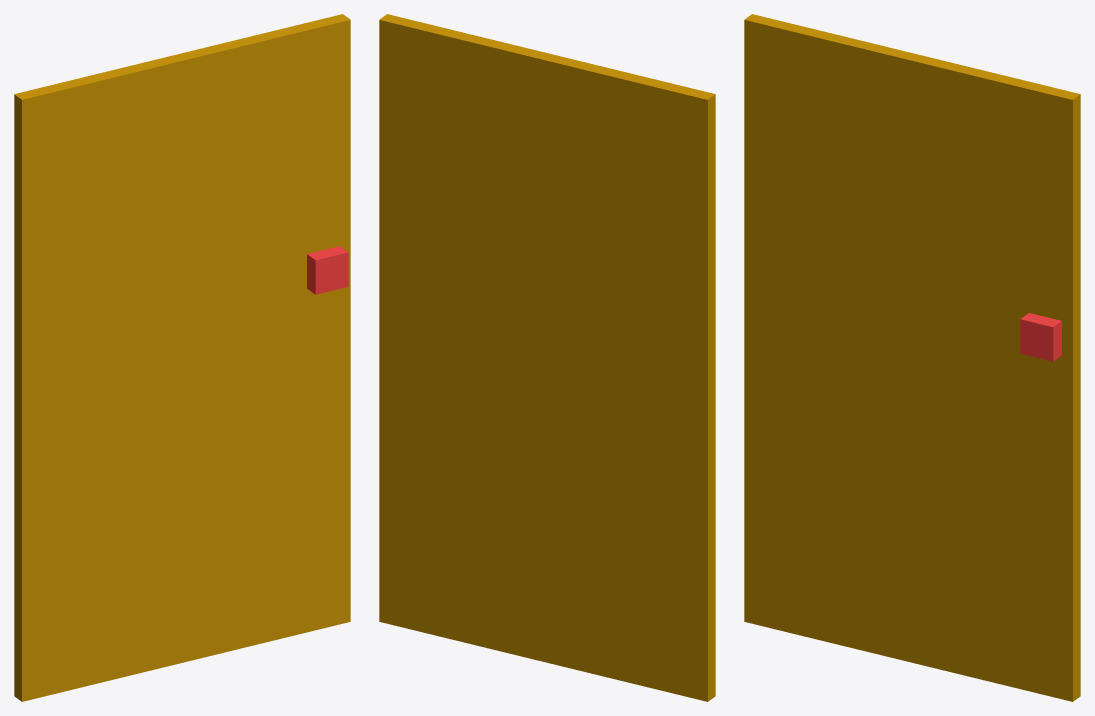
The picture shows the model from 3 angles, left to right: view 1: azimuth 30°, elevation 25°; view 2: azimuth 150°, elevation 25°; view 3: azimuth 330°, elevation 25°; orthographic projection.
Visible parts, largest first — view 1: gate, interlock; view 2: gate; view 3: gate, interlock.
Boxes of the visible parts, bbox=[...] form: gate: bbox=[14, 14, 350, 701]; interlock: bbox=[307, 246, 348, 294]; gate: bbox=[379, 14, 715, 701]; gate: bbox=[744, 14, 1080, 701]; interlock: bbox=[1020, 313, 1061, 361].
Size of the model in its own units: 1.2 by 2.1 by 0.105.
